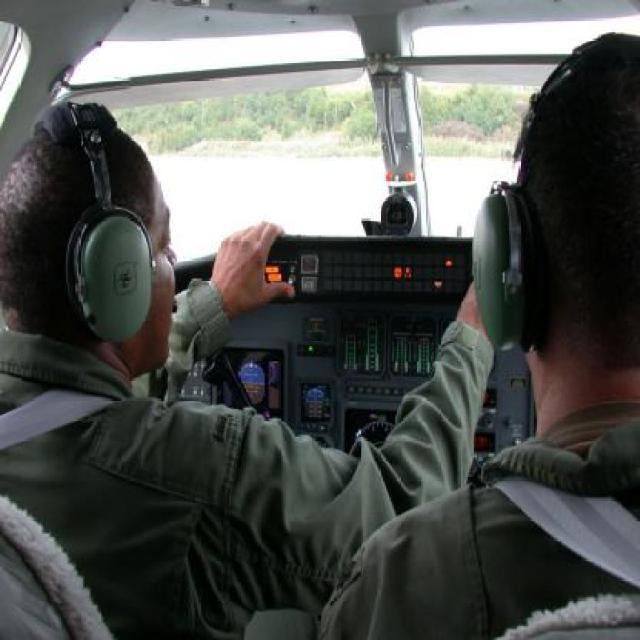earphone: (45, 89, 167, 344), (465, 165, 572, 395)
